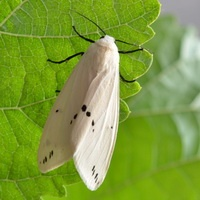insect: (38, 13, 142, 189)
